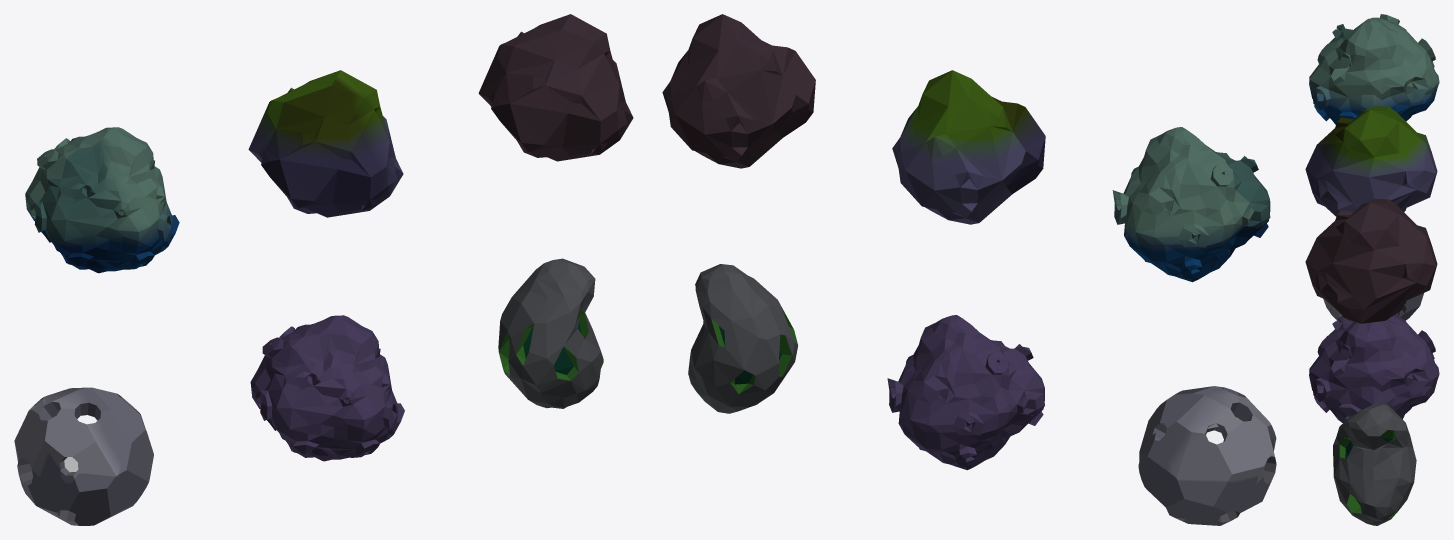
Rendered from asteroids.fbx.
The picture shows the model from 3 angles, left to right: view 1: azimuth 30°, elevation 25°; view 2: azimuth 150°, elevation 25°; view 3: azimuth 270°, elevation 25°; orthographic projection. The views are drawn at different scales.
Parts seen in each view (by area): view 1: Sphere.009, Sphere.005, Sphere.007, Sphere.011, Sphere.008, Sphere.006; view 2: Sphere.009, Sphere.005, Sphere.011, Sphere.007, Sphere.008, Sphere.006; view 3: Sphere.007, Sphere.005, Sphere.011, Sphere.009, Sphere.006, Sphere.008.
Part boxes in pixels (x1=…): Sphere.009: x1=25, y1=127, x2=179, y2=273; Sphere.005: x1=250, y1=315, x2=404, y2=461; Sphere.007: x1=478, y1=14, x2=633, y2=161; Sphere.011: x1=248, y1=70, x2=403, y2=217; Sphere.008: x1=14, y1=387, x2=153, y2=525; Sphere.006: x1=498, y1=258, x2=603, y2=408; Sphere.009: x1=1112, y1=127, x2=1270, y2=282; Sphere.005: x1=887, y1=315, x2=1044, y2=470; Sphere.011: x1=892, y1=70, x2=1045, y2=224; Sphere.007: x1=662, y1=14, x2=815, y2=168; Sphere.008: x1=1138, y1=386, x2=1276, y2=525; Sphere.006: x1=688, y1=264, x2=798, y2=413; Sphere.007: x1=1305, y1=198, x2=1437, y2=323; Sphere.005: x1=1309, y1=312, x2=1439, y2=422; Sphere.011: x1=1305, y1=106, x2=1437, y2=216; Sphere.009: x1=1309, y1=14, x2=1439, y2=124; Sphere.006: x1=1333, y1=404, x2=1416, y2=525; Sphere.008: x1=1323, y1=293, x2=1423, y2=321.
Size of the model in its own units: 388 by 245 by 91.68.
